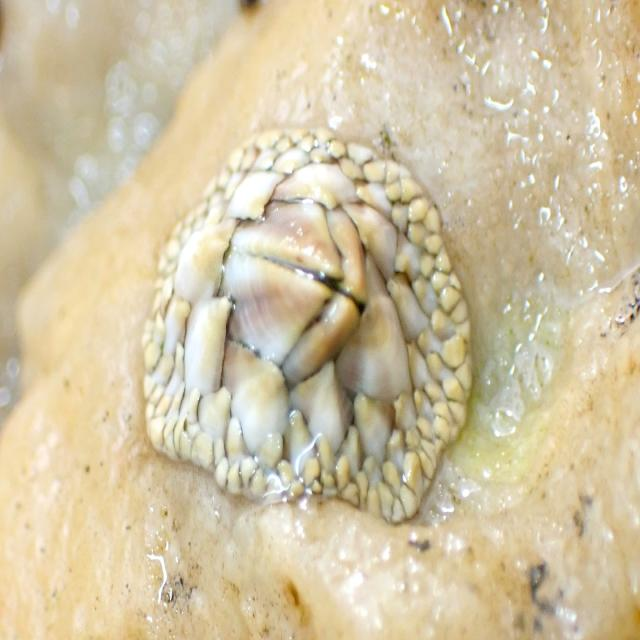barnacles: (146, 106, 477, 541)
